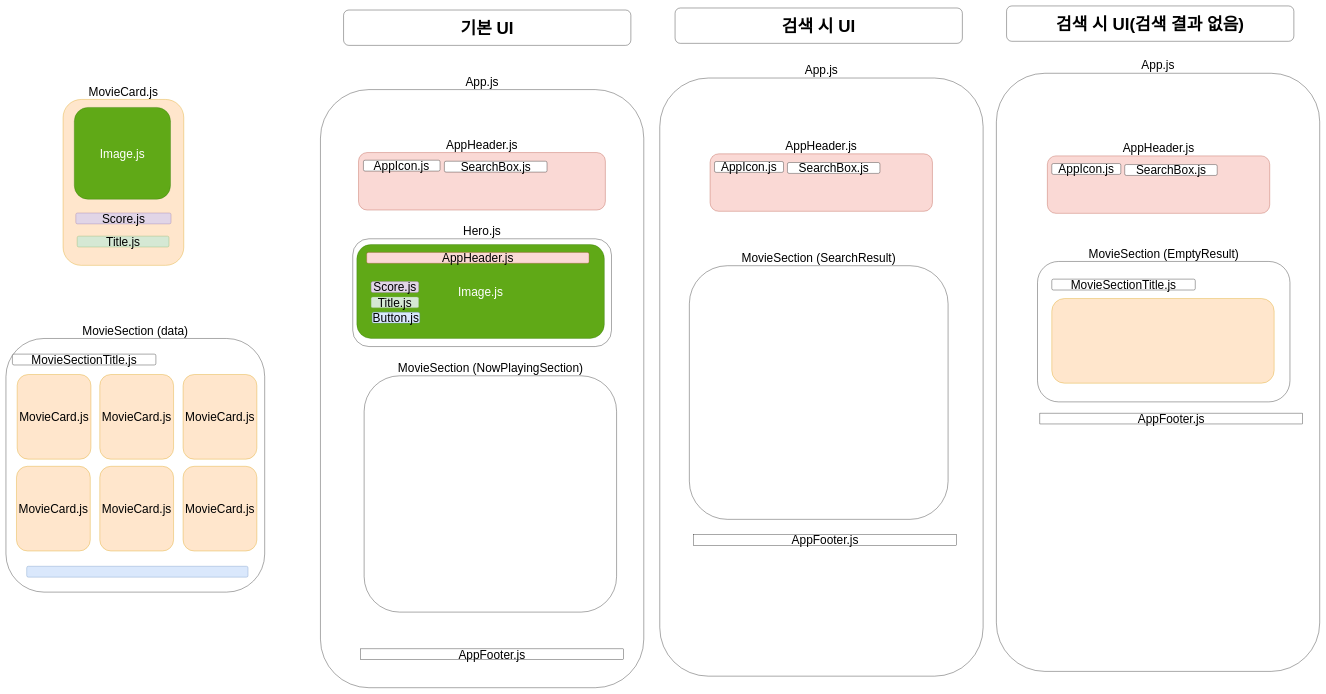
The diagram is 1326 pixels wide and 694 high, and some of its shapes have lost their labels. The centre of each missing label's shape, as x and y in pixels:
"EmptyResultBox.js" belongs at point (1162, 340).
"SeeMoreButton.js" belongs at point (137, 571).
